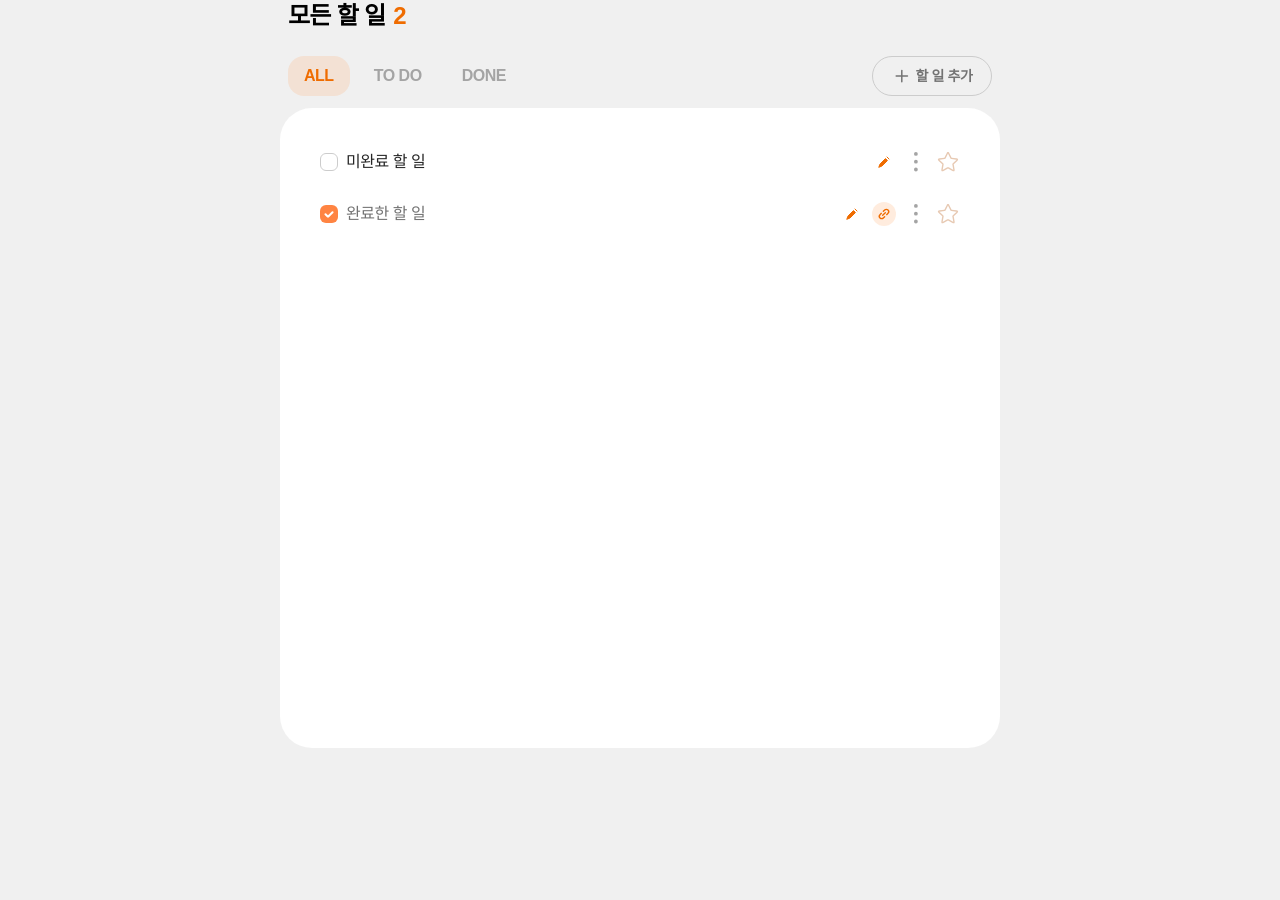
Test: TodosView › 할 일 추가 버튼을 누르면 목표를 고르지 않은 생성 모달이 열린다
Click the button "할 일 추가" at coordinates (932, 76), box [872,56,992,96]
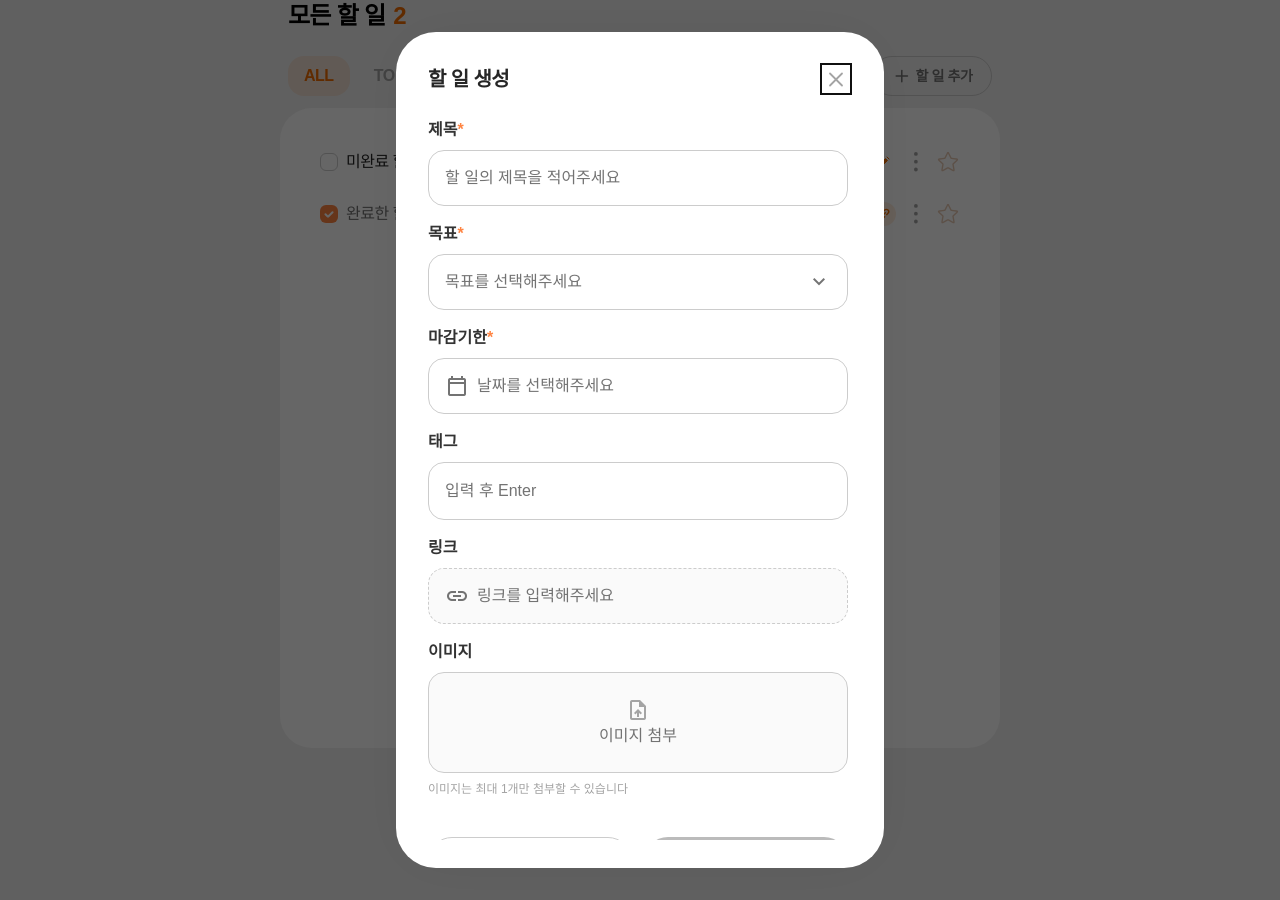
Expected: the dropdown labelled "목표" reads "목표를 선택해주세요", [428,254,848,310]
